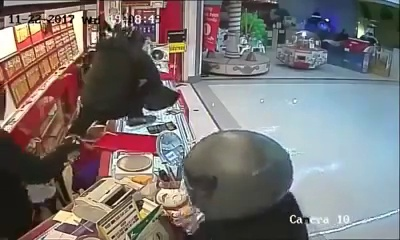helmet: (174, 137, 299, 216)
